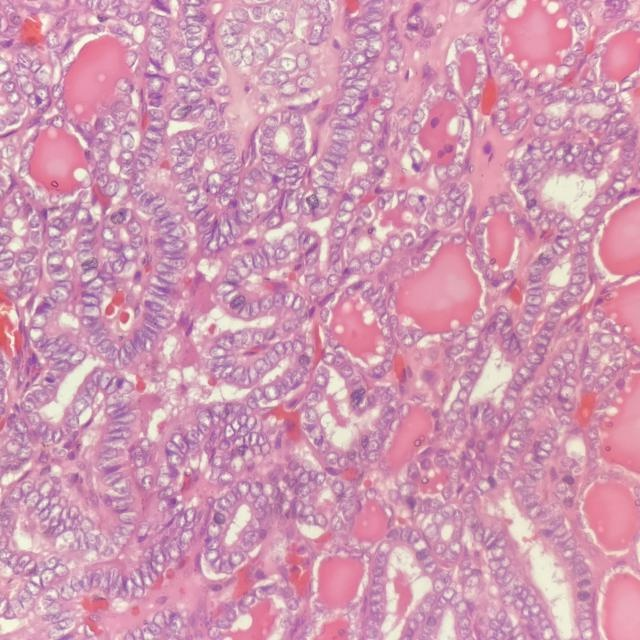TC: (314, 304, 338, 327), (397, 328, 418, 353), (343, 371, 368, 392), (213, 331, 235, 354), (248, 325, 265, 354), (469, 299, 491, 321), (463, 322, 485, 343), (222, 287, 246, 306), (290, 334, 308, 359), (447, 230, 470, 249), (263, 379, 282, 401), (332, 209, 355, 227), (386, 231, 404, 253), (323, 269, 341, 291), (359, 277, 377, 299), (156, 270, 181, 285), (149, 291, 171, 308), (264, 212, 283, 231), (223, 265, 242, 284), (367, 246, 385, 266), (457, 370, 475, 390), (217, 211, 229, 241), (281, 289, 297, 311), (271, 337, 285, 360), (254, 357, 268, 379), (259, 292, 273, 314), (330, 352, 348, 369), (273, 244, 290, 262), (315, 371, 332, 389), (432, 199, 448, 218), (154, 314, 173, 330), (243, 250, 256, 272), (430, 237, 445, 253)
